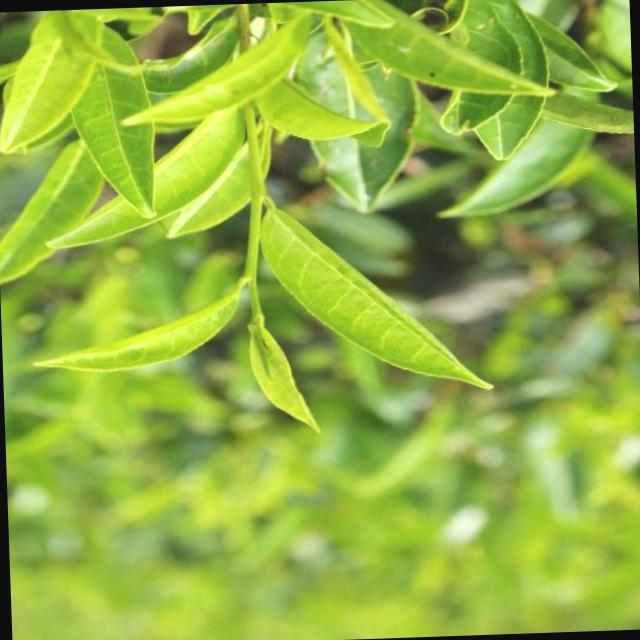Stem: (241, 241, 257, 277)
